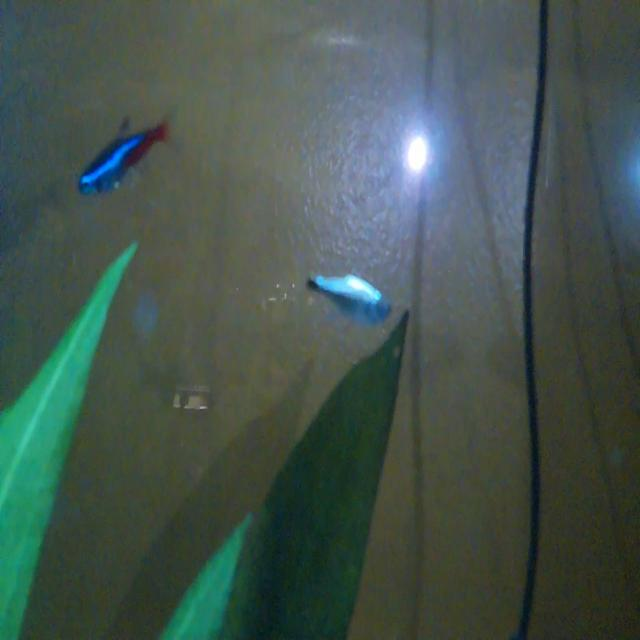fish: (54, 99, 177, 210), (295, 254, 396, 334)
